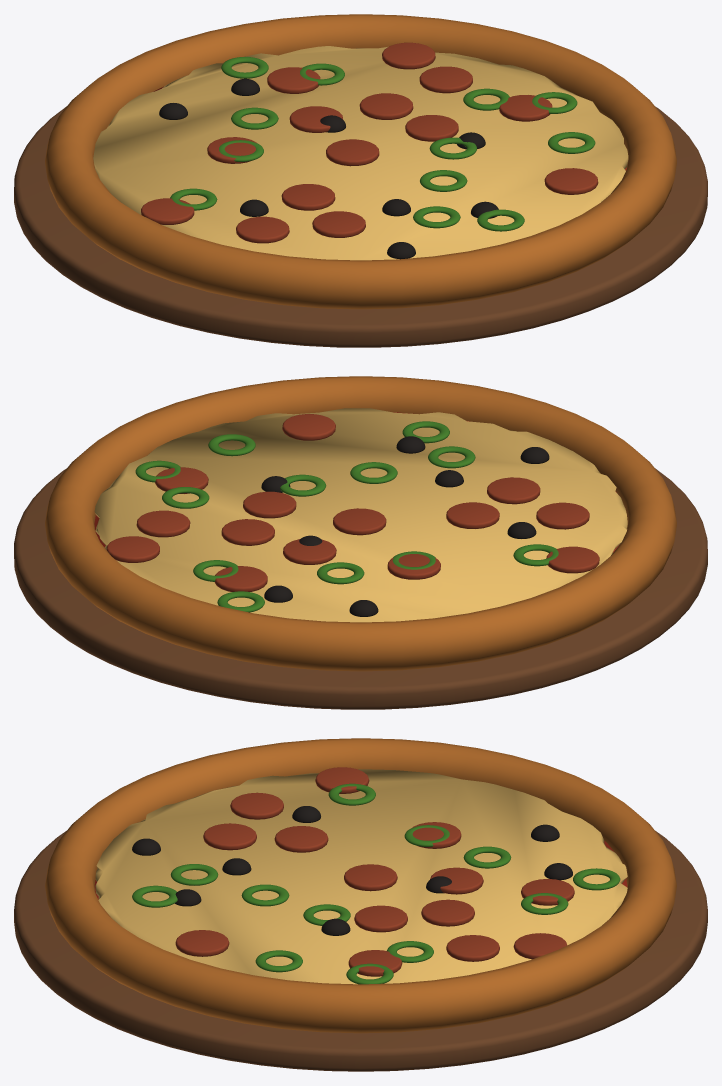
The model's file is pizza-gringo-demo.glb.
3 views of the same model, one above another, from view 1: azimuth 30°, elevation 25°; view 2: azimuth 150°, elevation 25°; view 3: azimuth 270°, elevation 25° (orthographic).
Visible parts, largest first — view 1: pizza-gringo; view 2: pizza-gringo; view 3: pizza-gringo.
Part boxes in pixels (x1,y1,x2,y2): pizza-gringo: (14,14,707,347); pizza-gringo: (14,376,707,709); pizza-gringo: (14,738,707,1071).
Bounding box in the file's own units: 0.336 × 0.034 × 0.336.
